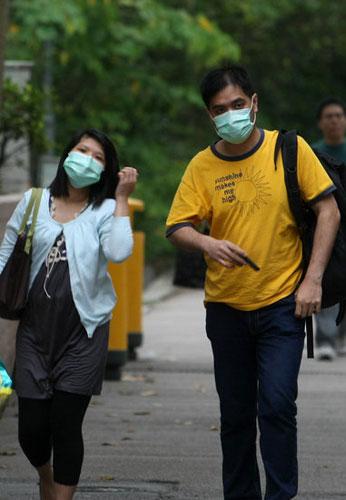mask: (208, 105, 284, 155), (63, 143, 120, 192)
